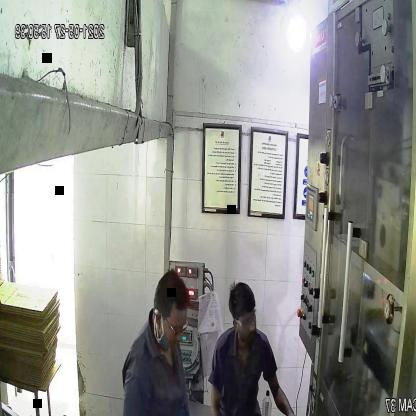goggles: (158, 318, 192, 339), (232, 307, 259, 330)
